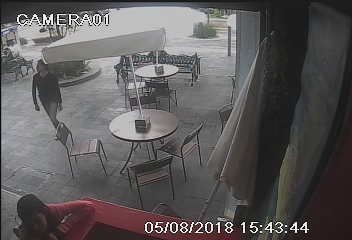libre: (71, 105, 207, 187), (117, 60, 185, 111)
